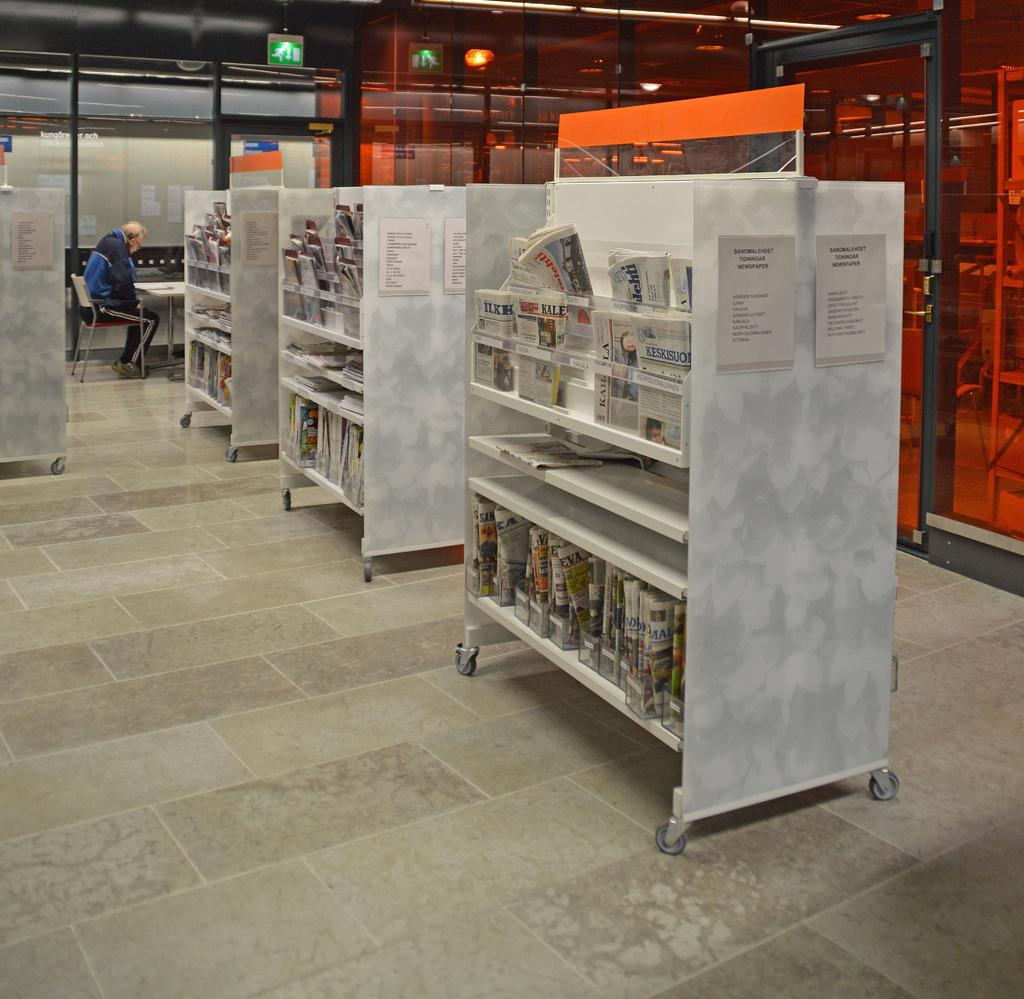Chair: (70, 272, 156, 382)
